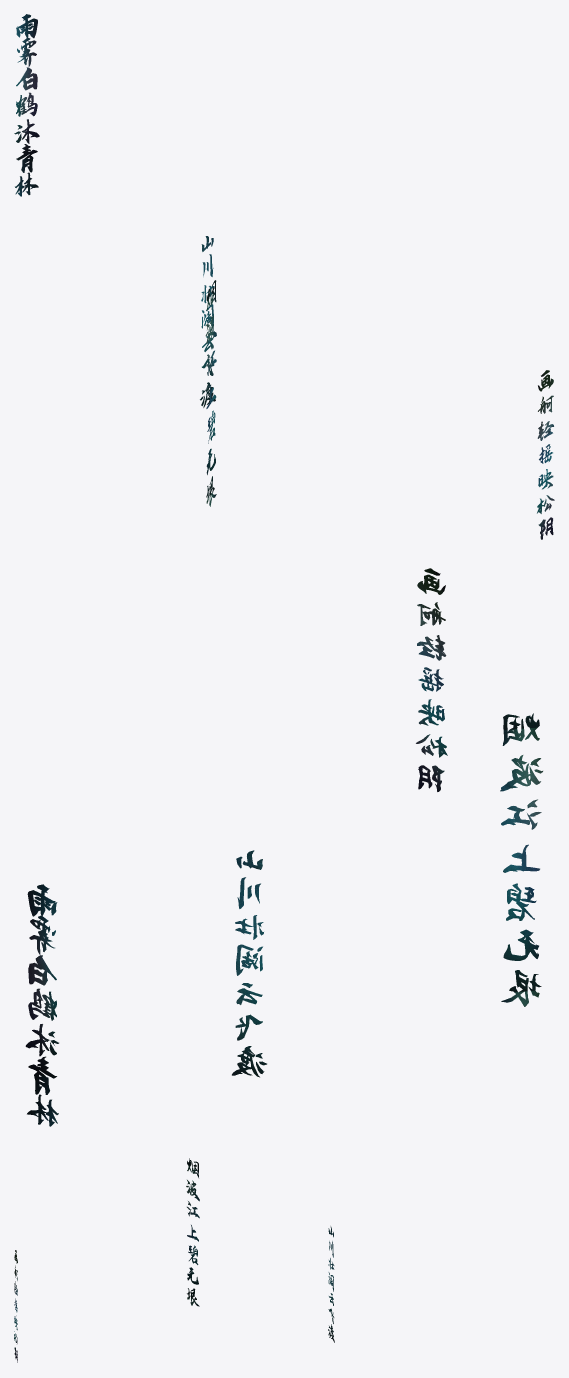
File: poem.glb
3 views of the same model, one above another, from view 1: azimuth 30°, elevation 25°; view 2: azimuth 150°, elevation 25°; view 3: azimuth 270°, elevation 25° (orthographic). The views are drawn at different scales.
Parts seen in each view (by area): view 1: 4.1, 1.1, 2.1, 3.1; view 2: 2.1, 4.1, 1.1, 3.1; view 3: 2.1, 3.1.
Boxes of the visible parts, x1,y1,x2,y2 form: 4.1: (14, 14, 39, 196); 1.1: (537, 370, 554, 539); 2.1: (205, 280, 216, 506); 3.1: (200, 236, 215, 407); 2.1: (500, 713, 542, 1006); 4.1: (25, 884, 58, 1126); 1.1: (416, 568, 447, 791); 3.1: (232, 850, 266, 1077); 2.1: (186, 1158, 199, 1306); 3.1: (328, 1226, 334, 1342).
Size of the model in its own units: 14.38 by 16.73 by 45.53.
Materials: 1 (1 with a texture image).
